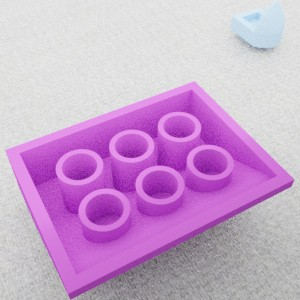lego: (4, 80, 294, 300), (230, 0, 284, 47)
